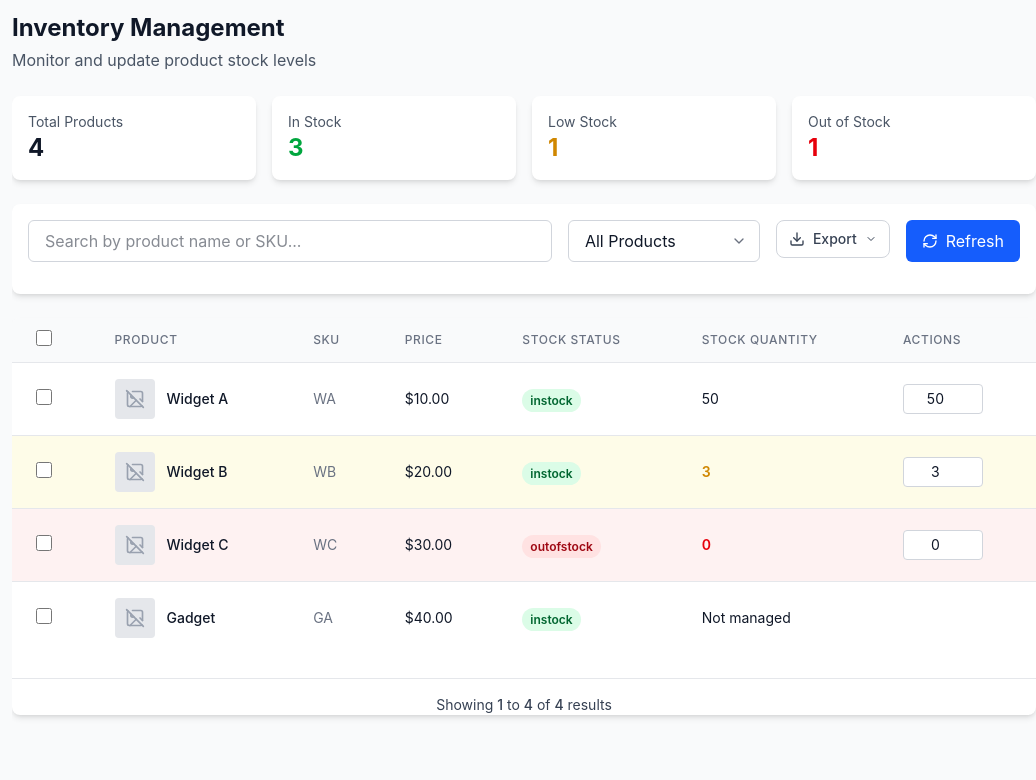
Scenario: InventoryPage › search › filters products by name
Type "Gadget" into the field with placeholder "Search by product name or SKU...". click: (290, 241)
box: [28,220,552,262]
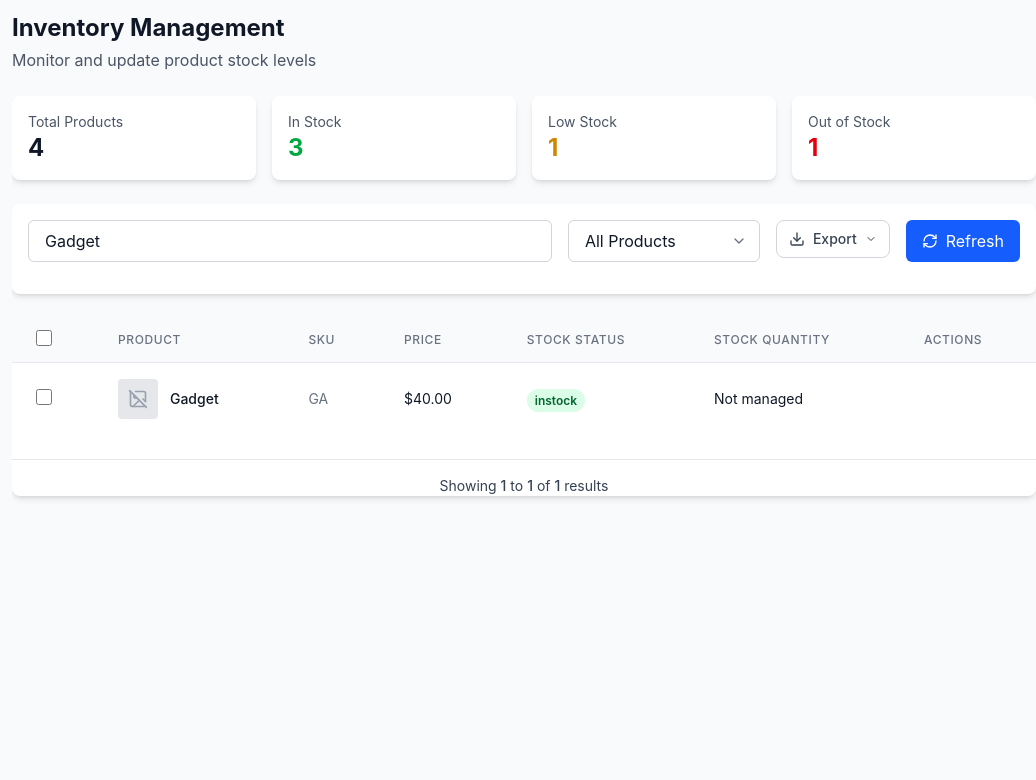
Expected: the text "Gadget" is shown, [170,389,219,409]
Expected: the text "Widget A" is gone
